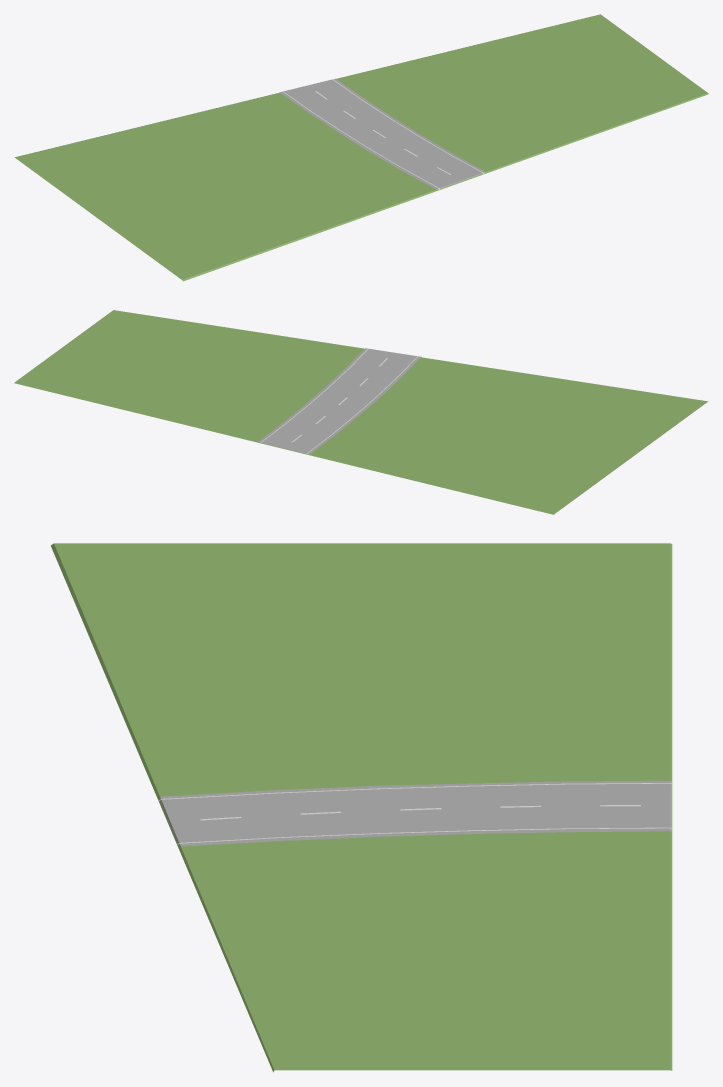
The model's file is road_left_light.fbx.
The picture shows the model from 3 angles, top to bottom: view 1: azimuth 30°, elevation 25°; view 2: azimuth 150°, elevation 25°; view 3: azimuth 270°, elevation 25°; orthographic projection. The views are drawn at different scales.
Visible parts, largest first — view 1: grass8, road_left_light, stuff6; view 2: grass8, road_left_light, stuff6; view 3: grass8, road_left_light, stuff6.
Boxes of the visible parts, x1,y1,x2,y2 form: grass8: [14, 14, 708, 281]; road_left_light: [280, 78, 485, 189]; stuff6: [282, 79, 483, 189]; grass8: [14, 310, 708, 514]; road_left_light: [258, 348, 421, 454]; stuff6: [261, 348, 417, 453]; grass8: [50, 543, 672, 1072]; road_left_light: [159, 780, 671, 847]; stuff6: [158, 783, 671, 845].
Size of the model in its own units: 25.02 by 0.068 by 12.47.
